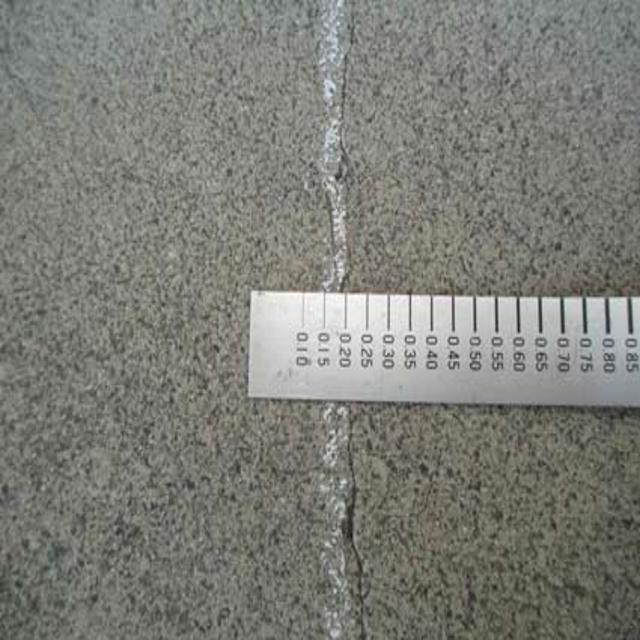crack: (318, 6, 368, 294), (330, 414, 384, 637)
